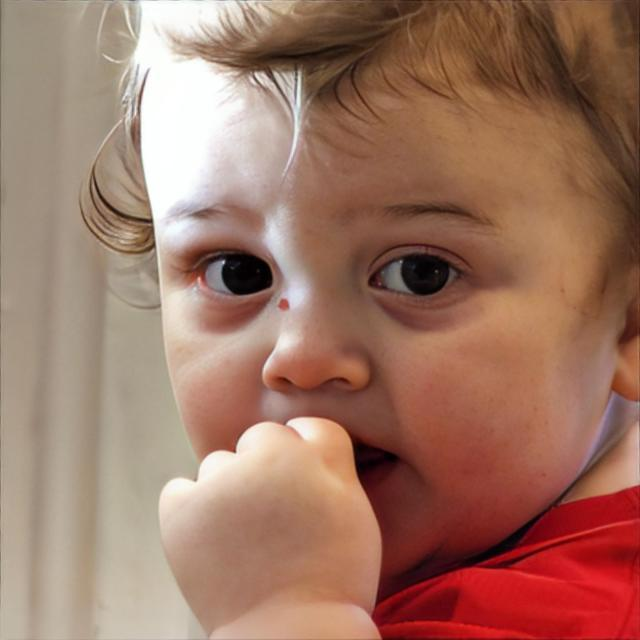surprise: (138, 18, 618, 593)
